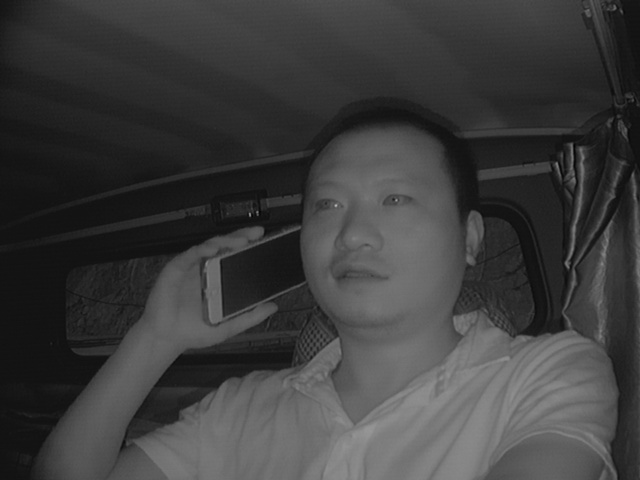hand: (155, 227, 261, 358)
